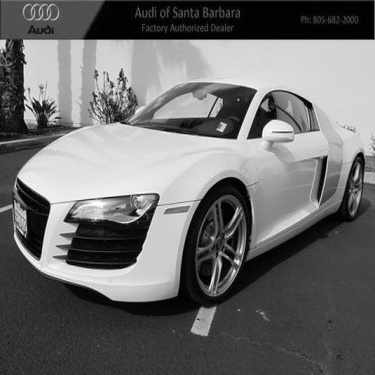car: (7, 70, 369, 316)
